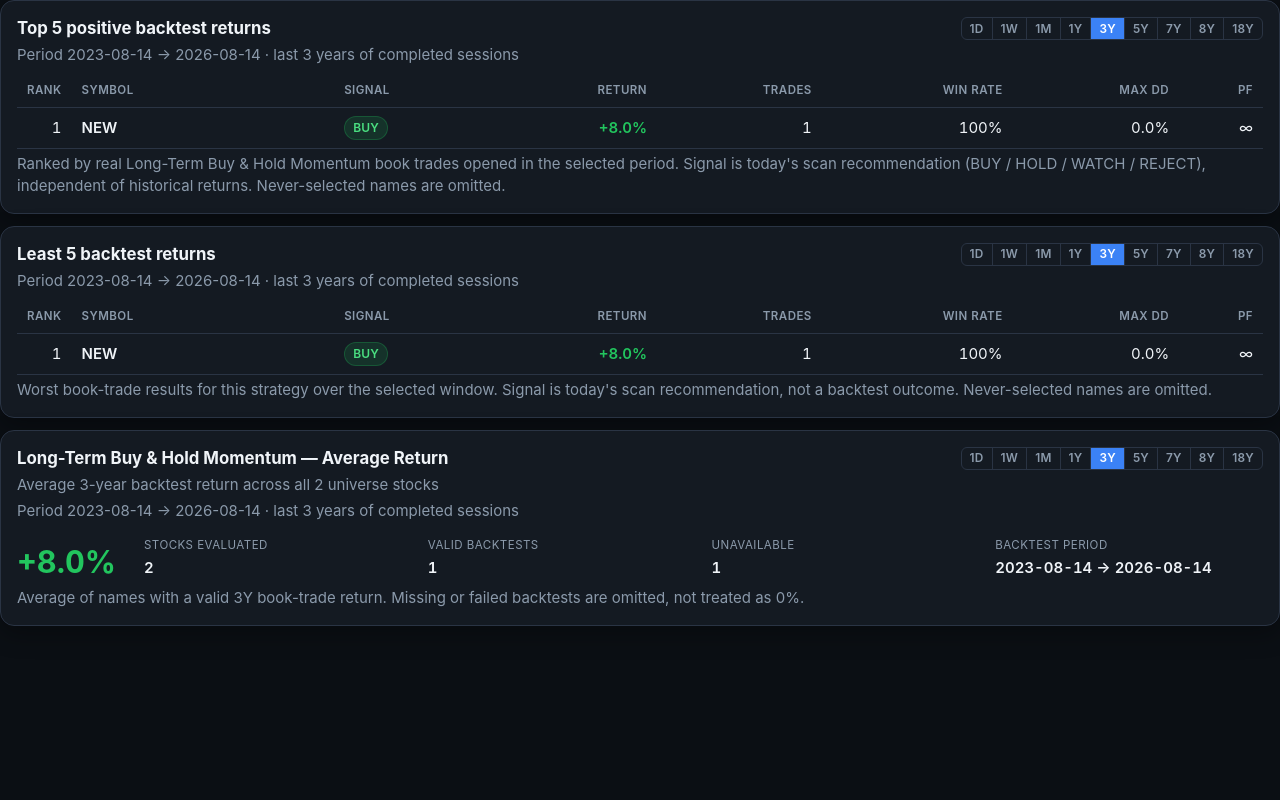
Test: LtmReturnBoards › recomputes top 5 from the blotter when the period is shorter than 3Y
Click the tab "18Y" in the row of "Top 5 positive backtest returns" at (1243, 29), box 1224,18 -> 1262,39
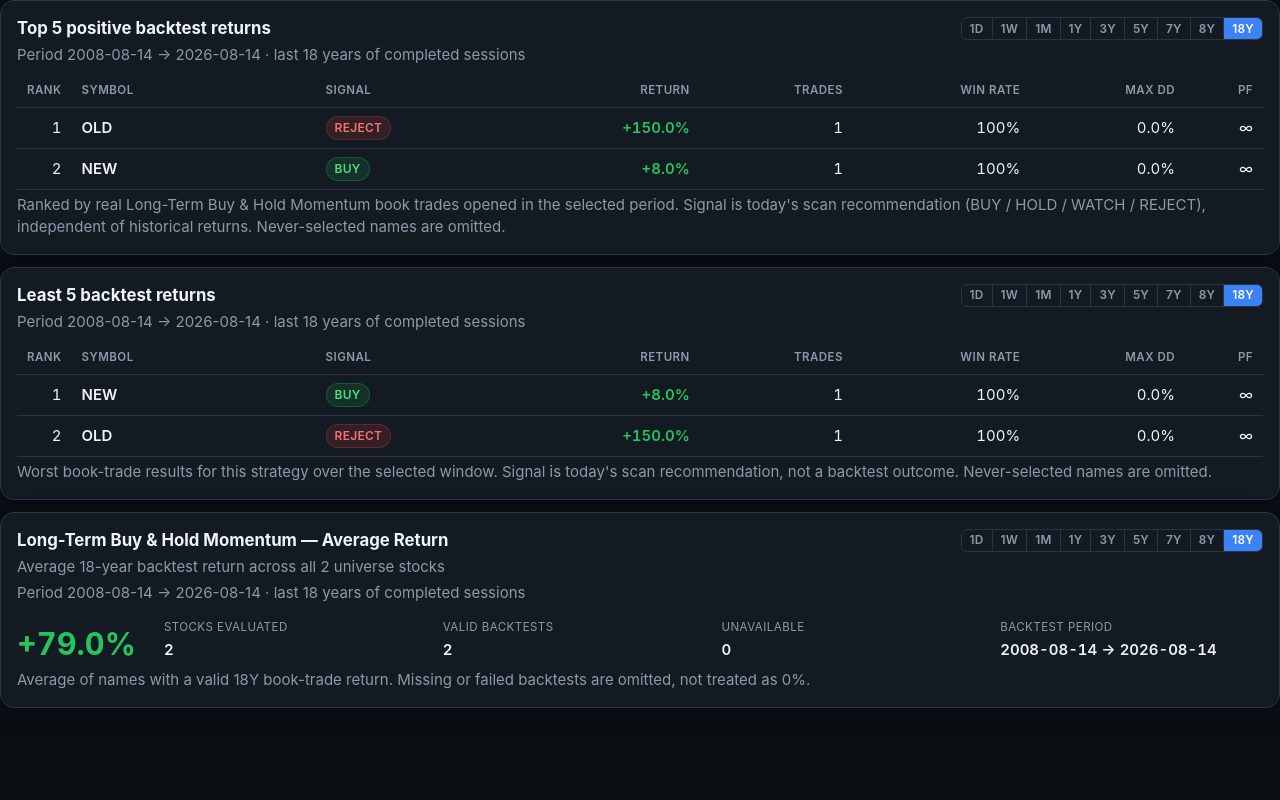
Now the text "OLD" below "Top 5 positive backtest returns" is shown, box 82,118 -> 112,137
Click the tab "1D" in the row of "Top 5 positive backtest returns" at (977, 29), box 962,18 -> 993,39
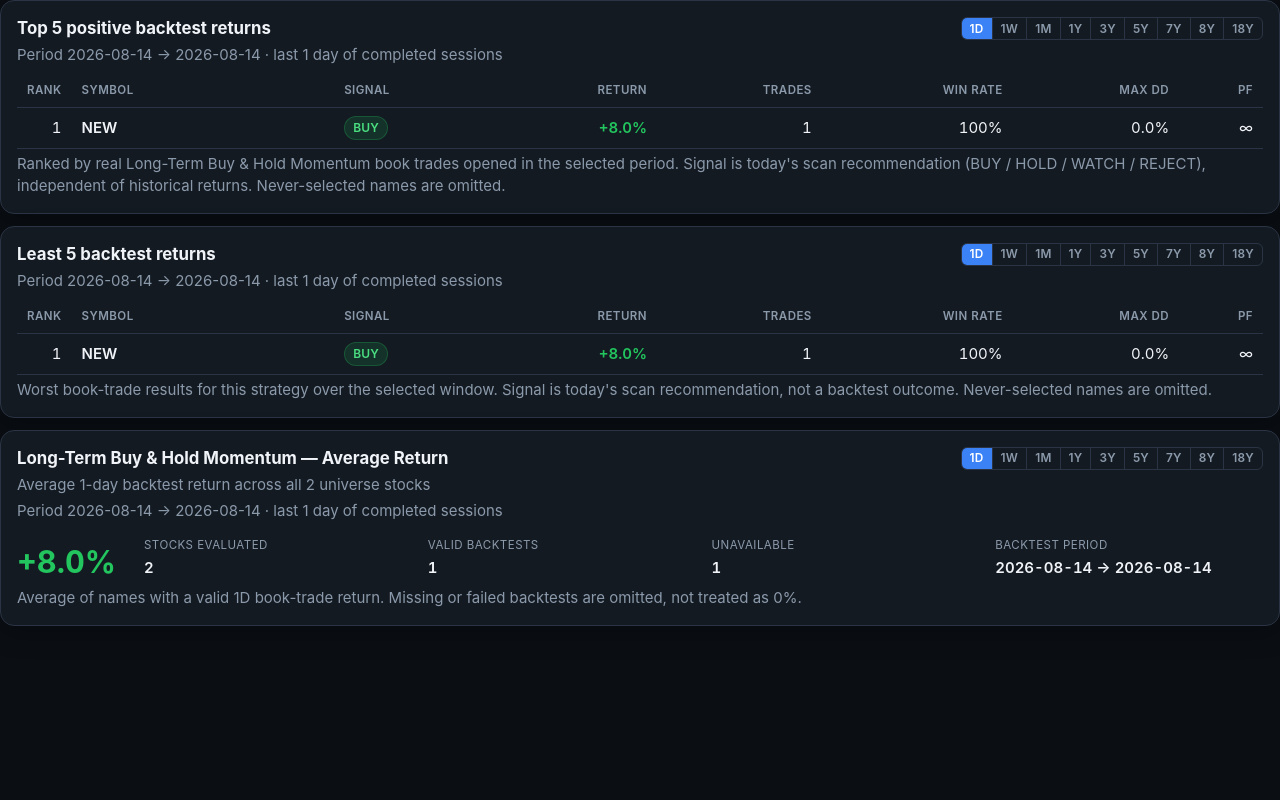
Expected: the text "NEW" below "Top 5 positive backtest returns" is shown, 82,118 -> 117,137
Now the text with test id "ltm-average-return-value" reads "+8.0%", box 17,544 -> 116,580
